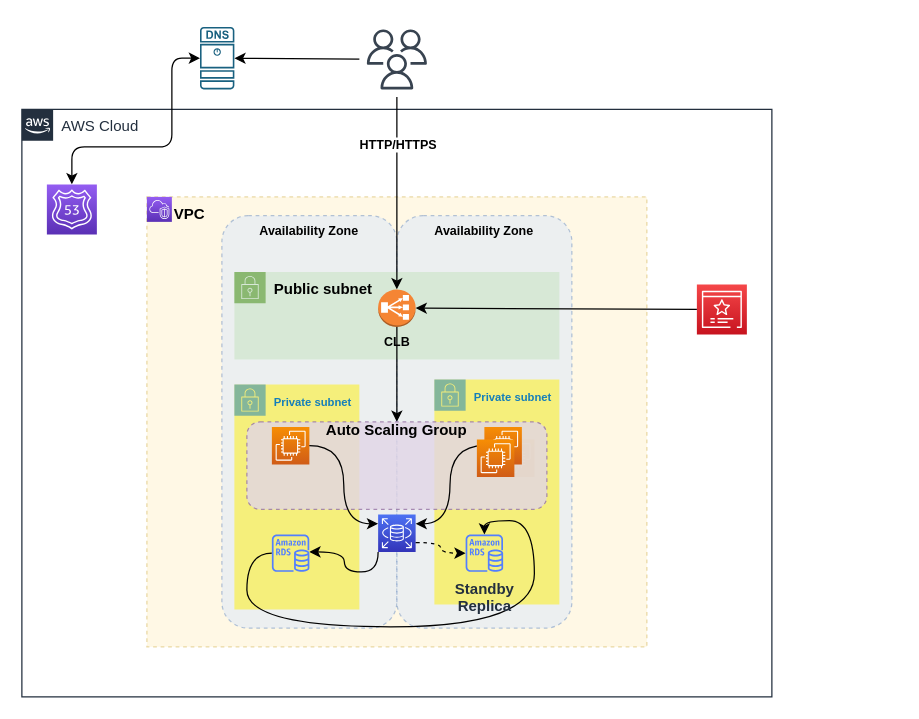
This 919x719 diagram has some shape labels left out. Here are the shapes that lost their labels. From the top down, the centre of each, then its label:
At (x=396, y=59): "Users".
At (x=71, y=208): "Route53 DNS".
At (x=721, y=308): "Certificate Manager".
At (x=290, y=552): "Active DB".
At (x=396, y=532): "RDS Proxy".
